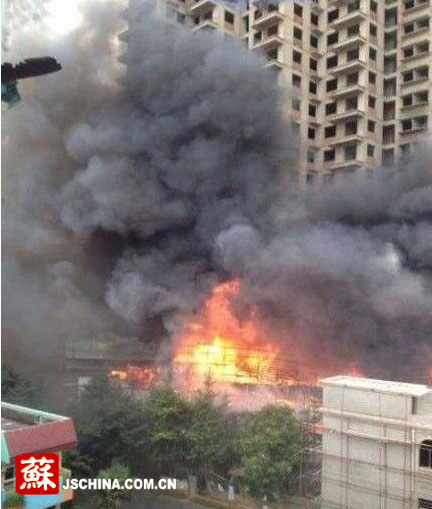fire: (149, 282, 361, 388)
smoke: (26, 44, 411, 297)
